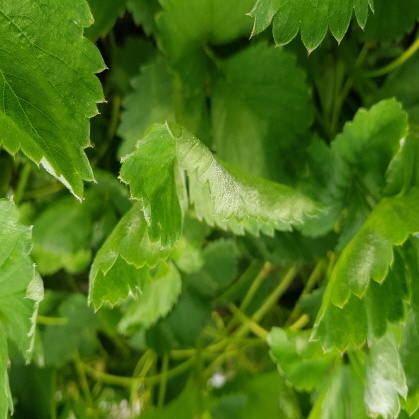Powdery_Leaf: (0, 149, 109, 418), (164, 166, 328, 304), (308, 63, 418, 234), (362, 0, 408, 336), (88, 105, 177, 249), (117, 167, 188, 296)
